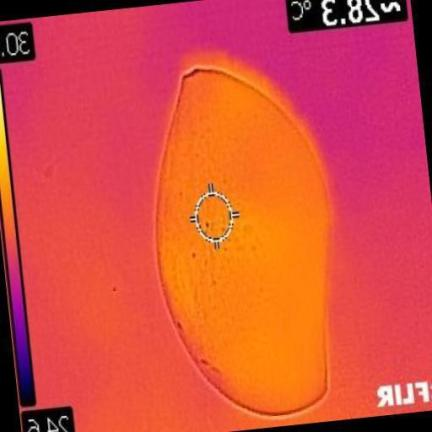mango: (159, 66, 331, 413)
